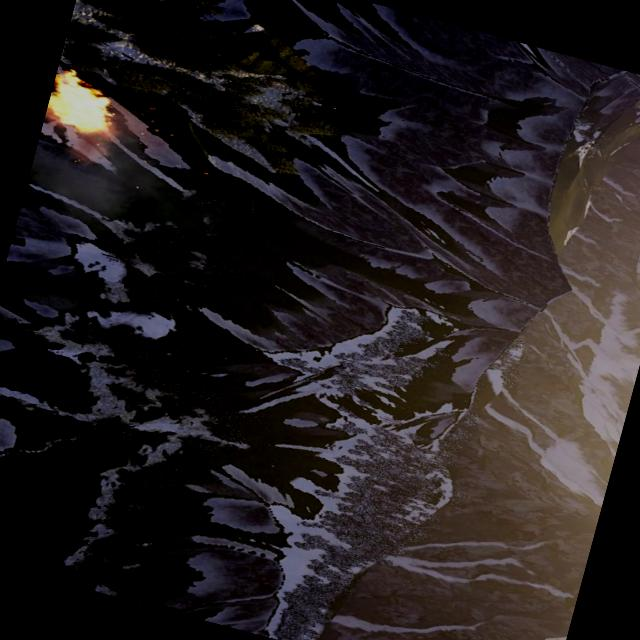fire: (42, 65, 118, 136)
smoke: (19, 92, 262, 260)
